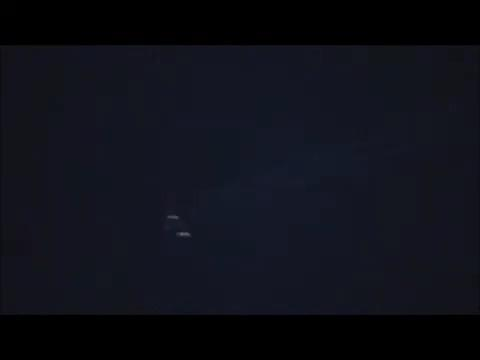Plane: (137, 206, 216, 246)
